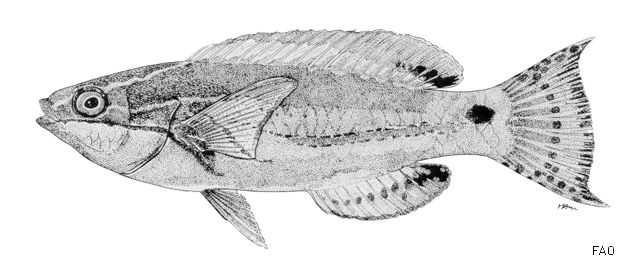fish: (36, 29, 612, 251)
